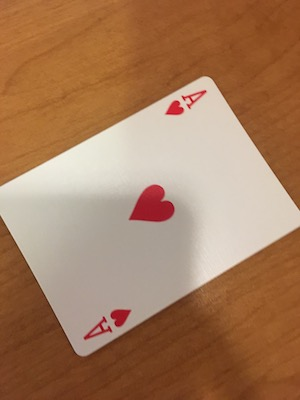AceOfHearts: (3, 72, 296, 359)
